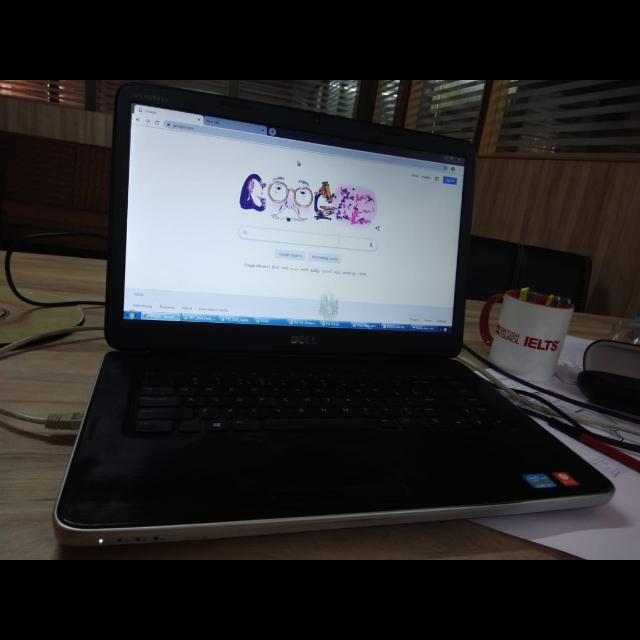Laptop: (36, 85, 626, 560)
